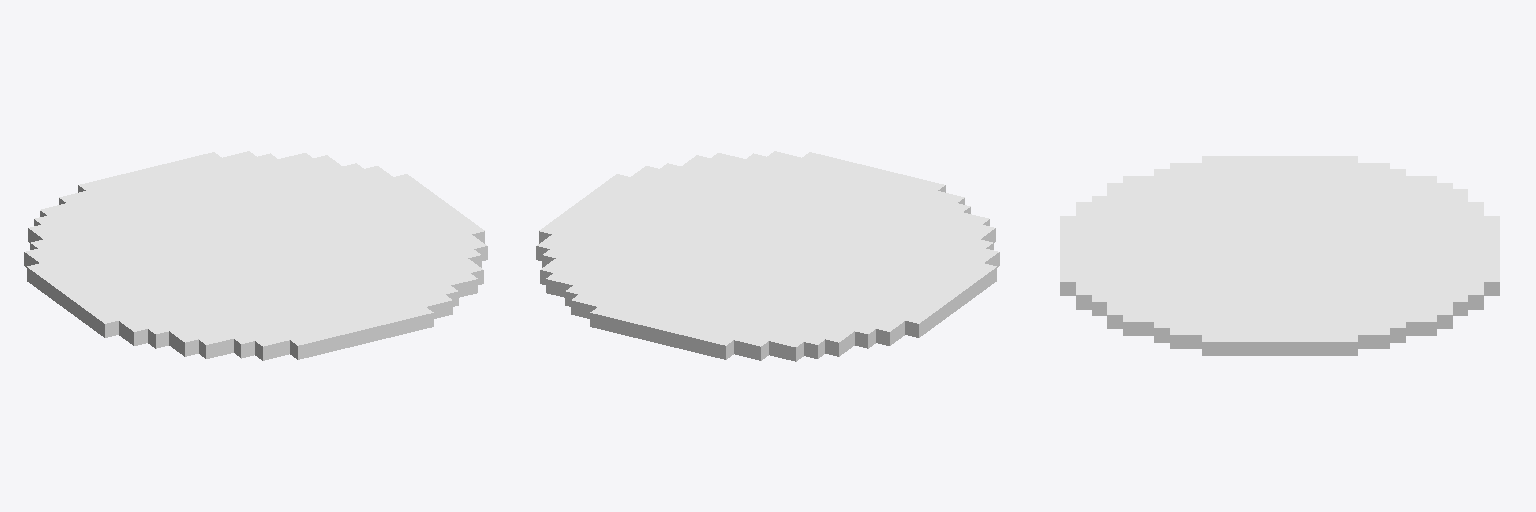
File: carpet.obj
3 renders of one model, left to right at view 1: azimuth 30°, elevation 25°; view 2: azimuth 150°, elevation 25°; view 3: azimuth 270°, elevation 25°, orthographic.
Parts seen in each view (by area): view 1: carpet; view 2: carpet; view 3: carpet.
Boxes of the visible parts, <box> form: carpet: <box>24,151,487,360</box>; carpet: <box>536,151,999,361</box>; carpet: <box>1060,156,1499,355</box>.
Bounding box in the file's own units: 28 × 1 × 28.